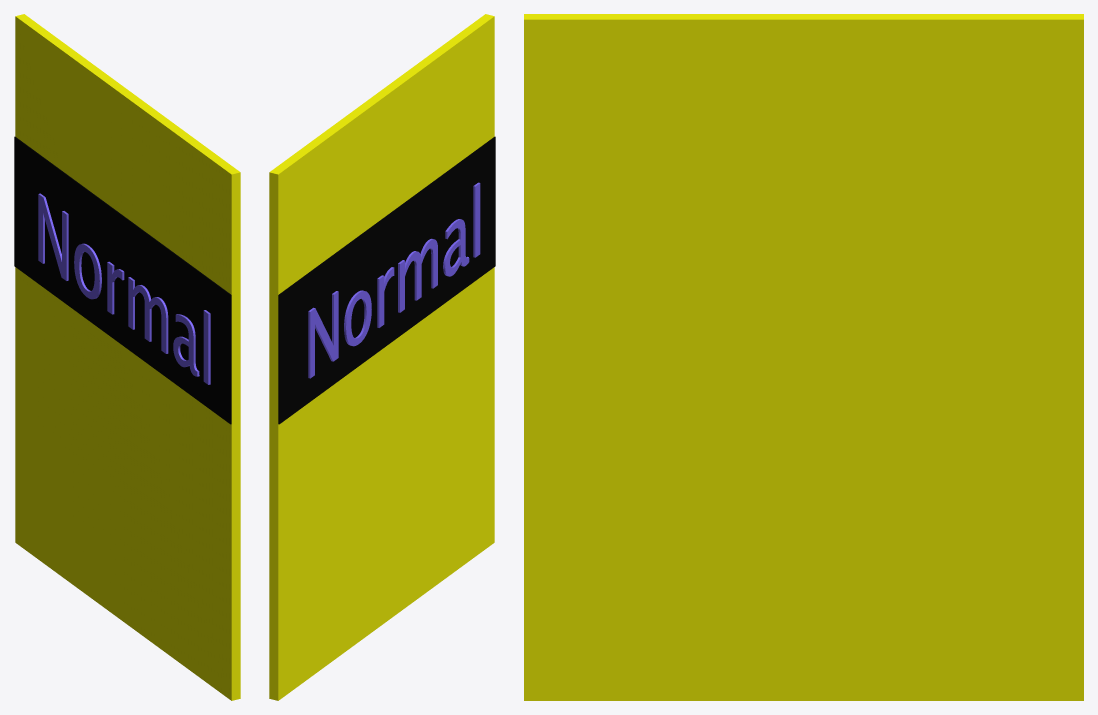
File: AST_transitionHallway_sh_door_normal.fbx
The picture shows the model from 3 angles, left to right: view 1: azimuth 30°, elevation 25°; view 2: azimuth 150°, elevation 25°; view 3: azimuth 270°, elevation 25°; orthographic projection. The views are drawn at different scales.
Visible parts, largest first — view 1: MSH_transitionHallway_sh_door_normal; view 2: MSH_transitionHallway_sh_door_normal; view 3: MSH_transitionHallway_sh_door_normal.
Boxes of the visible parts, x1,y1,x2,y2 form: MSH_transitionHallway_sh_door_normal: (14, 14, 240, 700); MSH_transitionHallway_sh_door_normal: (269, 14, 495, 700); MSH_transitionHallway_sh_door_normal: (524, 14, 1083, 700).
Bounding box in the file's own units: 7.31 × 272 × 202.
